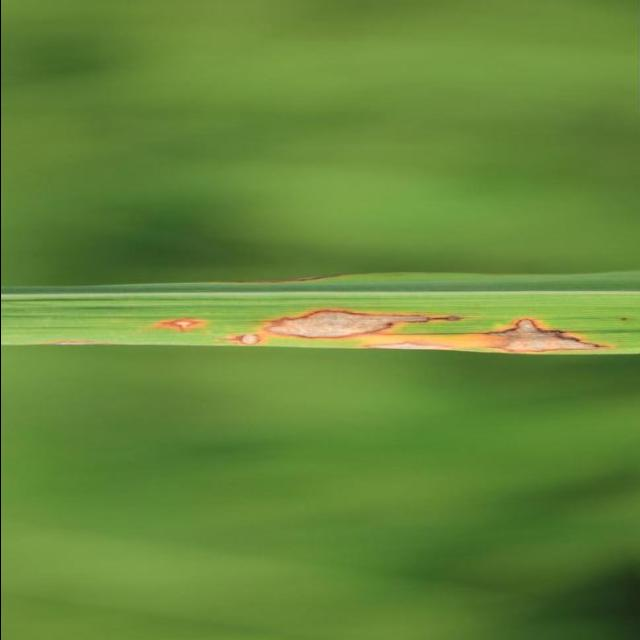Leaf blast: (0, 272, 640, 355)
